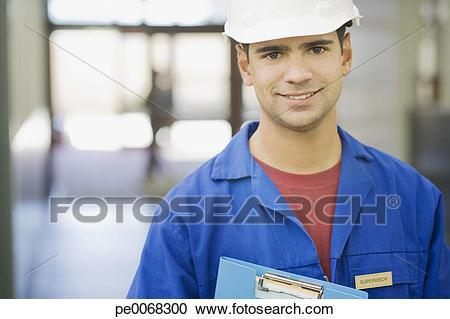helmet: (221, 1, 364, 46)
